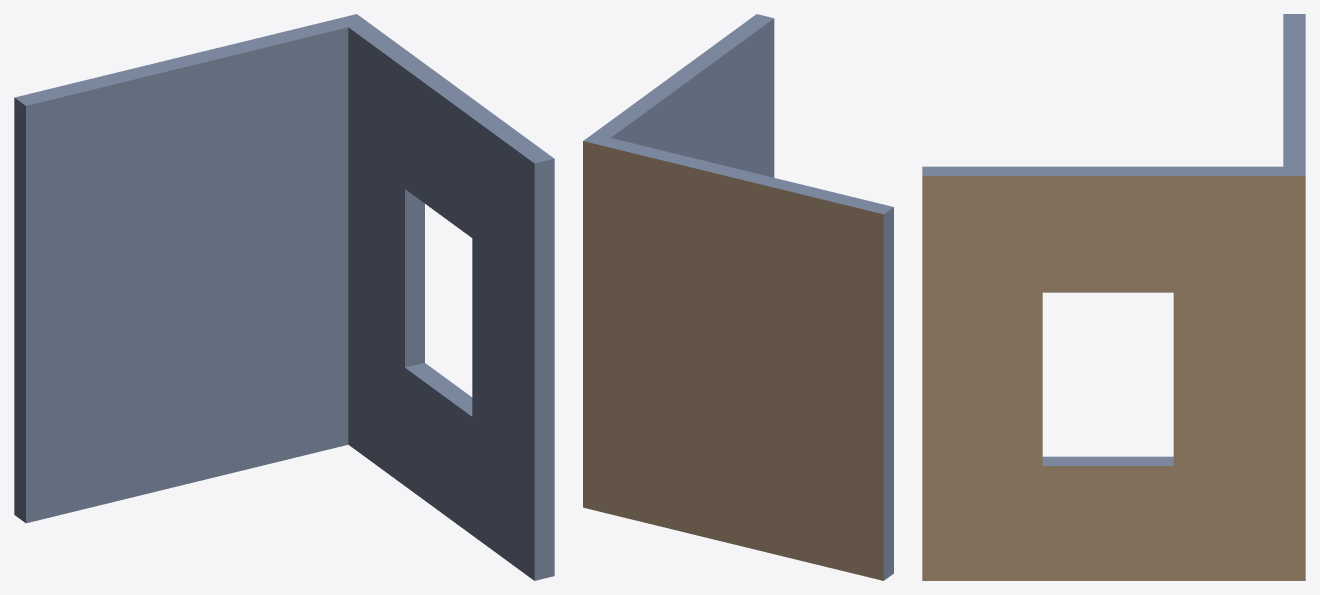
File: Wall2_C3_08.fbx
3 views of the same model, side by side, from view 1: azimuth 30°, elevation 25°; view 2: azimuth 150°, elevation 25°; view 3: azimuth 270°, elevation 25° (orthographic). The views are drawn at different scales.
Visible parts, largest first — view 1: Wall2_C3_08; view 2: Wall2_C3_08; view 3: Wall2_C3_08.
Part boxes in pixels (x1,y1,x2,y2): Wall2_C3_08: (14,14,554,580); Wall2_C3_08: (583,14,893,580); Wall2_C3_08: (922,14,1305,580).
Size of the model in its own units: 258 by 300 by 258.
